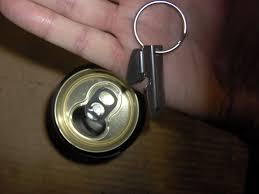Aluminum can: (48, 61, 155, 161)
